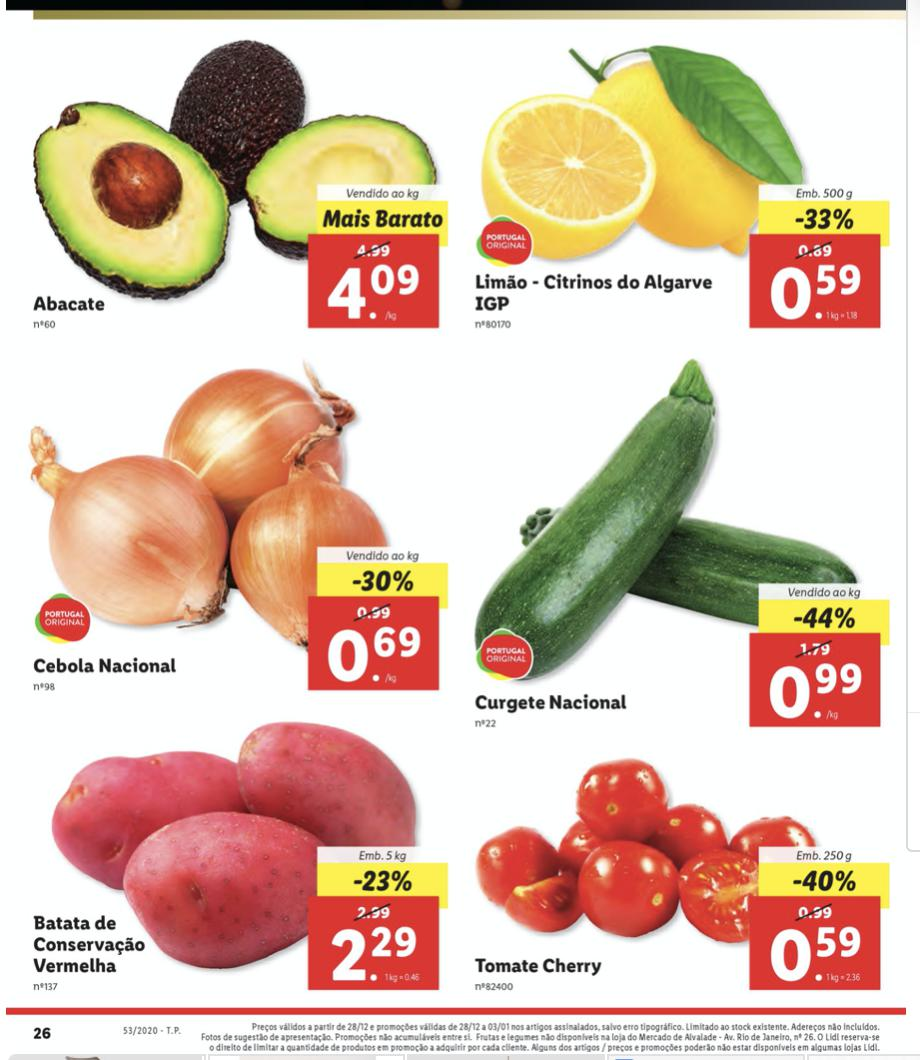name: (469, 271, 716, 314), (31, 914, 153, 982), (468, 686, 639, 715), (29, 655, 183, 682), (472, 955, 610, 980), (29, 292, 112, 321)
price: (325, 626, 437, 688), (766, 260, 874, 323), (766, 923, 872, 985), (329, 263, 428, 323), (327, 926, 424, 986), (768, 665, 865, 719)
product: (454, 347, 899, 750), (15, 338, 451, 727), (450, 34, 899, 347), (8, 32, 452, 336), (4, 717, 453, 997), (453, 755, 900, 997)
promotion: (344, 563, 418, 597), (789, 604, 860, 638), (344, 864, 415, 897), (793, 204, 857, 238), (790, 863, 858, 894)
